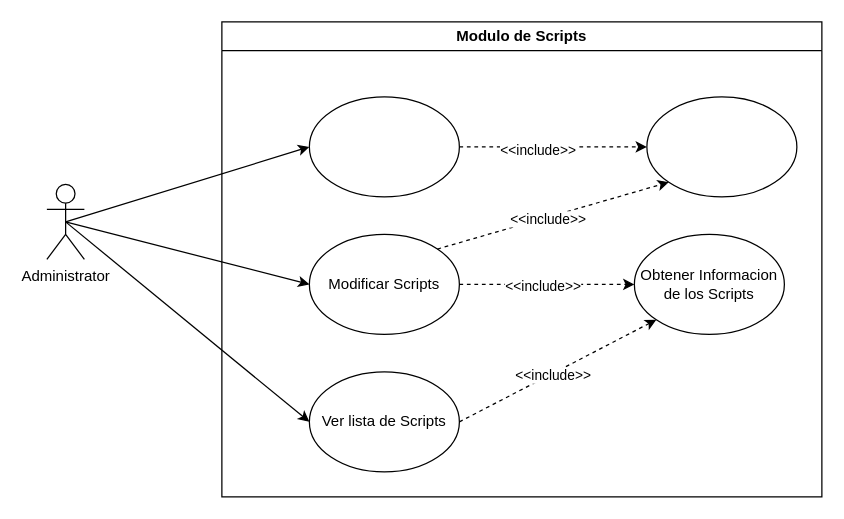
Image size: 844x519. Some labels were removed from this diagram. Each missing label, with the centre of its shape:
"Crear Scripts" goes at point 383,146.
"Guardar Informacion del Script" goes at point 721,146.
